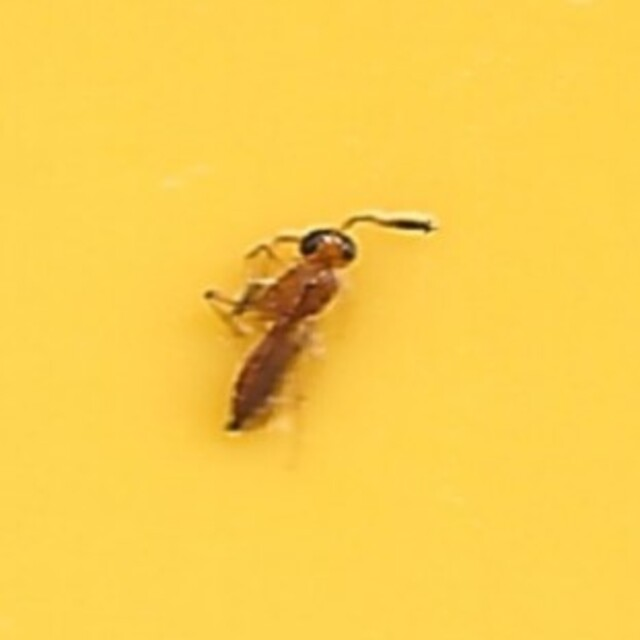Hymenoptera: (206, 209, 434, 431)
